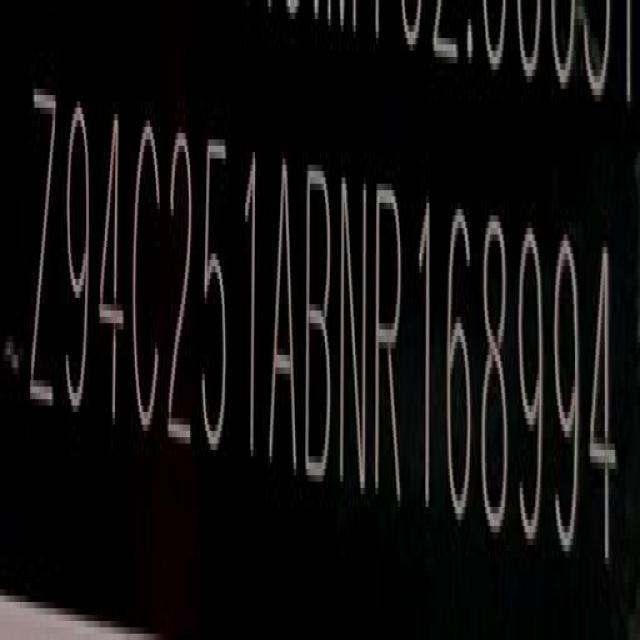1: (418, 196, 437, 516), (242, 136, 260, 473)
2: (168, 123, 197, 460)
4: (589, 238, 619, 572), (98, 96, 127, 429)
5: (202, 127, 230, 465)
6: (447, 201, 475, 528)
8: (482, 210, 509, 533)
9: (516, 228, 546, 549), (63, 90, 91, 426), (552, 230, 580, 565)
A: (268, 148, 299, 482)
B: (306, 157, 334, 486)
C: (132, 111, 164, 447)
N: (340, 168, 370, 497)
R: (374, 172, 403, 505)
Z: (30, 79, 59, 418)
